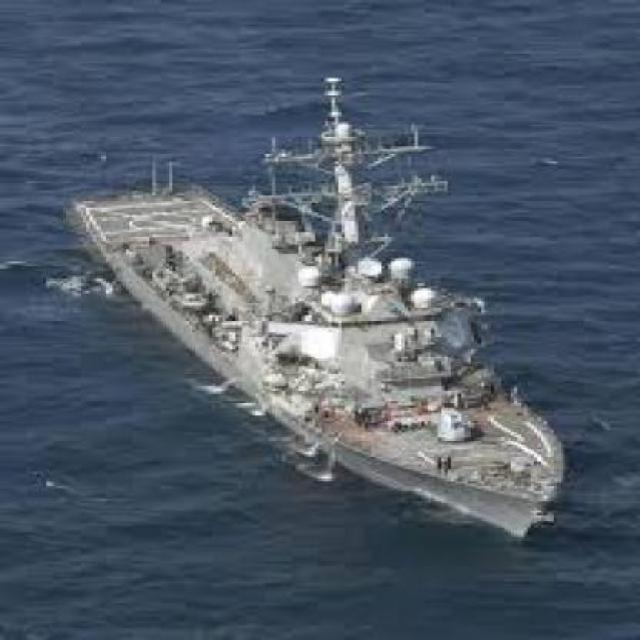warship2: (63, 55, 588, 558)
